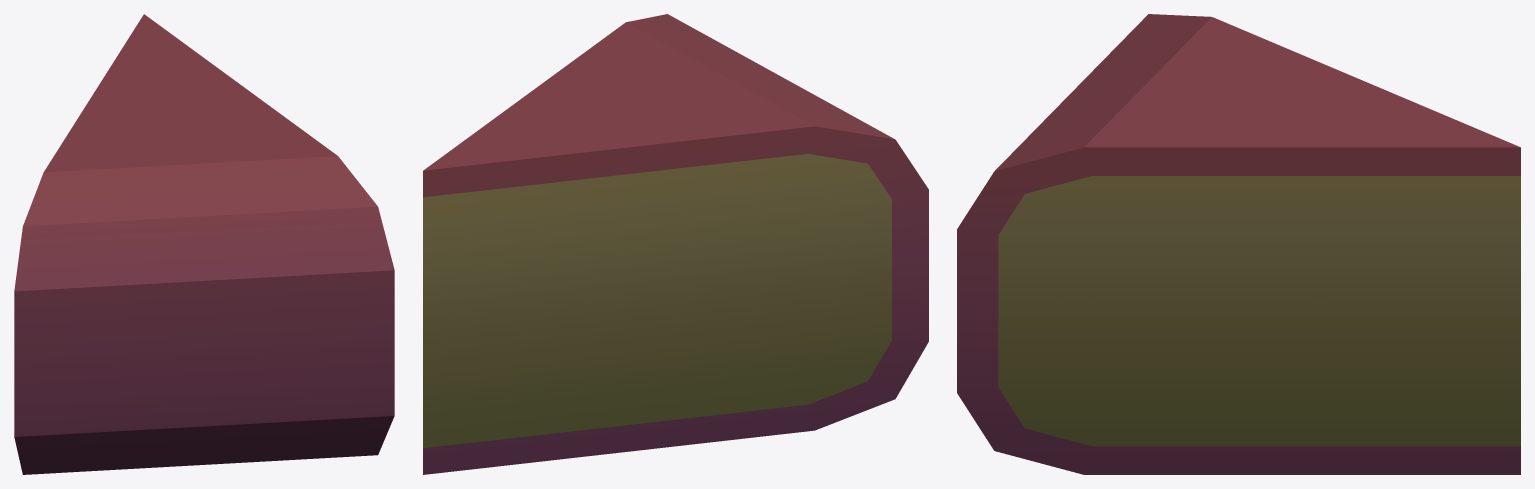
Rendered from SM_Cheese.fbx.
3 renders of one model, left to right at view 1: azimuth 30°, elevation 25°; view 2: azimuth 150°, elevation 25°; view 3: azimuth 270°, elevation 25°, orthographic. The views are drawn at different scales.
Visible parts, largest first — view 1: cheese; view 2: cheese; view 3: cheese.
Boxes of the visible parts, bbox=[...] form: cheese: bbox=[14, 14, 394, 474]; cheese: bbox=[423, 14, 928, 474]; cheese: bbox=[957, 14, 1520, 474].
Bounding box in the file's own units: 11.03 × 10 × 15.6.
